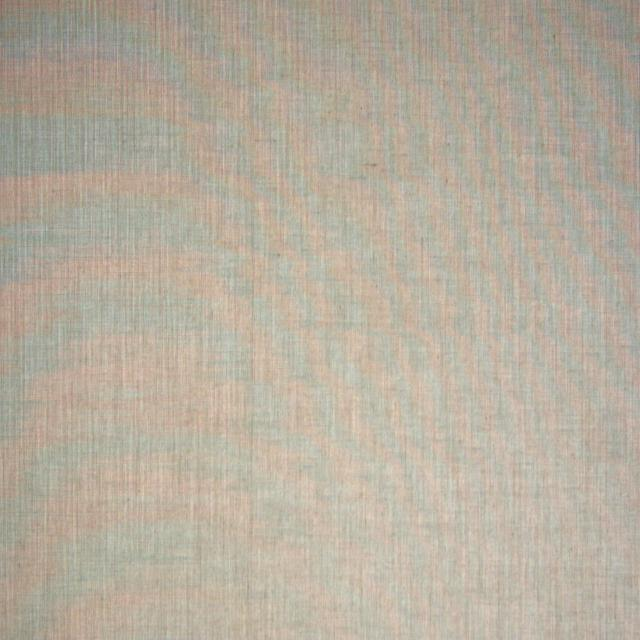dirty: (365, 161, 377, 169)
